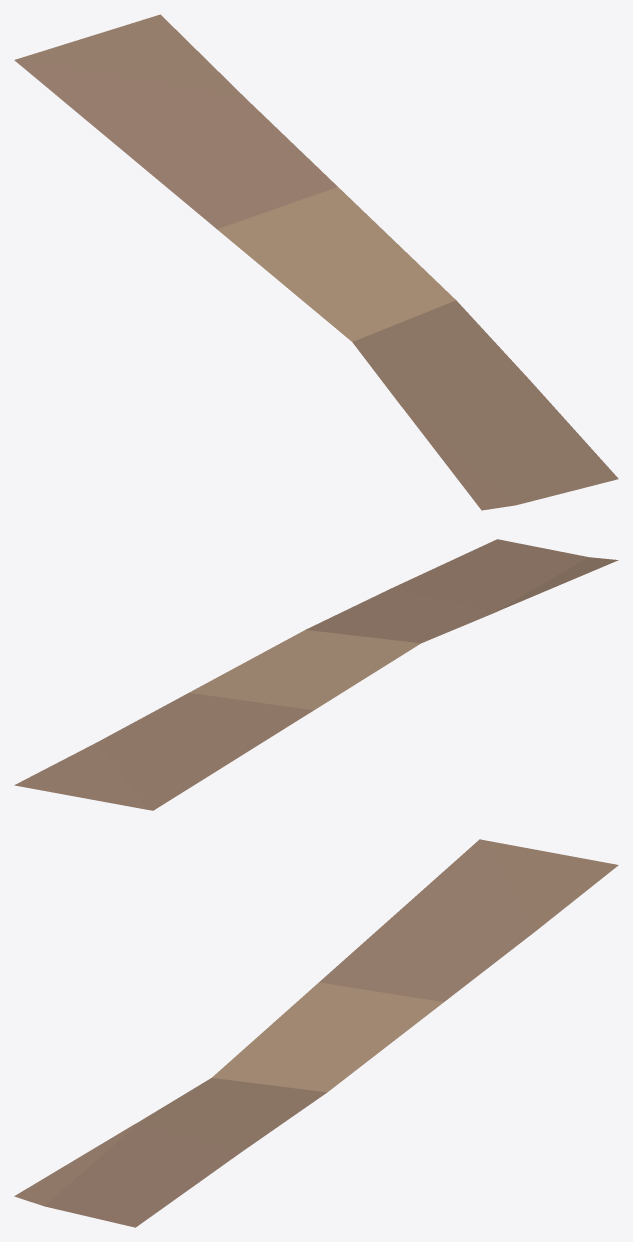
File: farm_-8_-4_soil.glb
The picture shows the model from 3 angles, top to bottom: view 1: azimuth 30°, elevation 25°; view 2: azimuth 150°, elevation 25°; view 3: azimuth 330°, elevation 25°; orthographic projection. The views are drawn at different scales.
Visible parts, largest first — view 1: geometry_0; view 2: geometry_0; view 3: geometry_0.
Part boxes in pixels (x1=…): geometry_0: x1=14, y1=14, x2=618, y2=510; geometry_0: x1=14, y1=539, x2=618, y2=810; geometry_0: x1=14, y1=839, x2=618, y2=1227.
Bounding box in the file's own units: 22.76 × 7.53 × 102.
